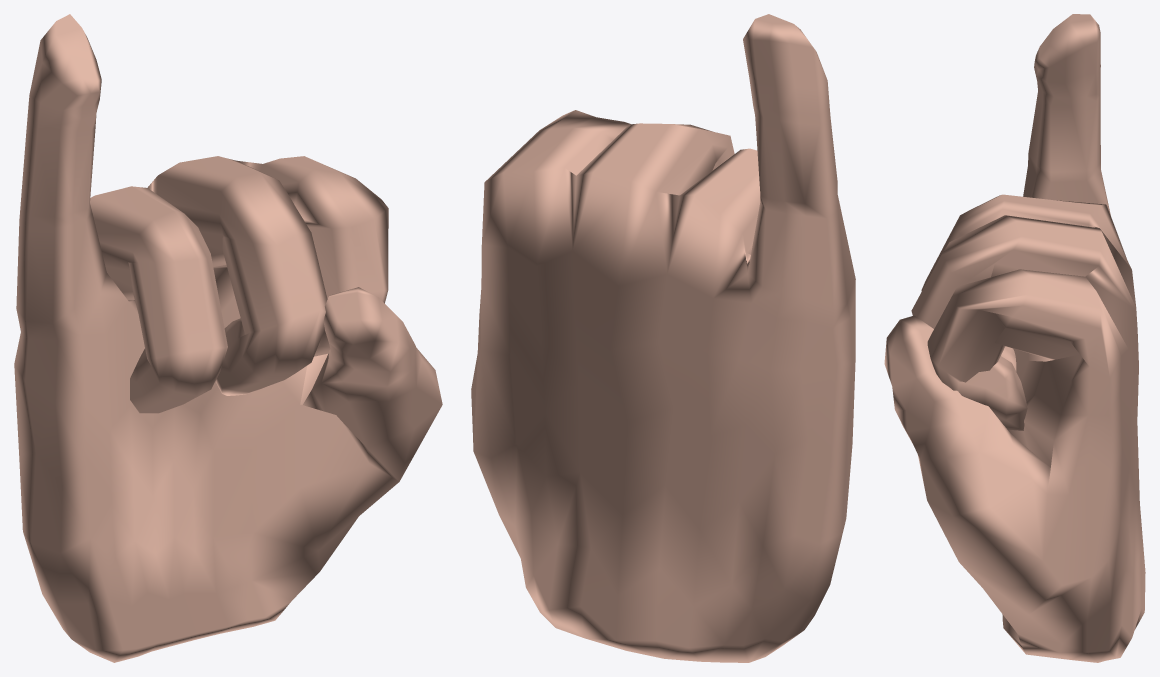
File: MAO_I.obj
3 views of the same model, side by side, from view 1: azimuth 30°, elevation 25°; view 2: azimuth 150°, elevation 25°; view 3: azimuth 270°, elevation 25° (orthographic). The views are drawn at different scales.
Visible parts, largest first — view 1: mao_dir:mao_dir; view 2: mao_dir:mao_dir; view 3: mao_dir:mao_dir.
Part boxes in pixels (x1,y1,x2,y2): mao_dir:mao_dir: [14, 14, 442, 662]; mao_dir:mao_dir: [471, 14, 855, 662]; mao_dir:mao_dir: [884, 14, 1145, 662].
Size of the model in its own units: 132 by 208 by 87.47.
